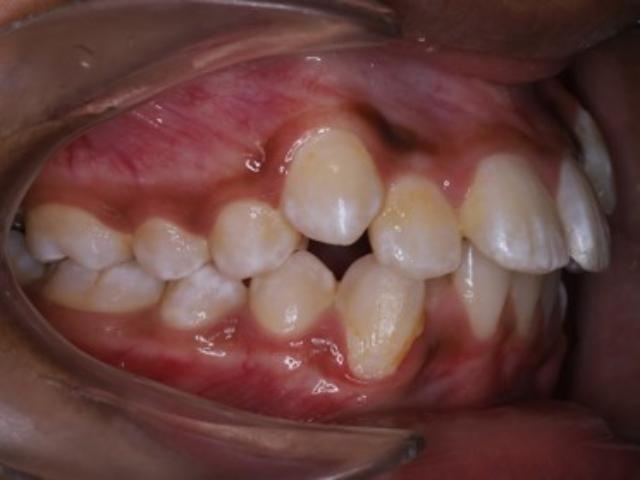canine class II 1/4: (246, 118, 429, 390)
molar class I: (14, 196, 164, 330)
